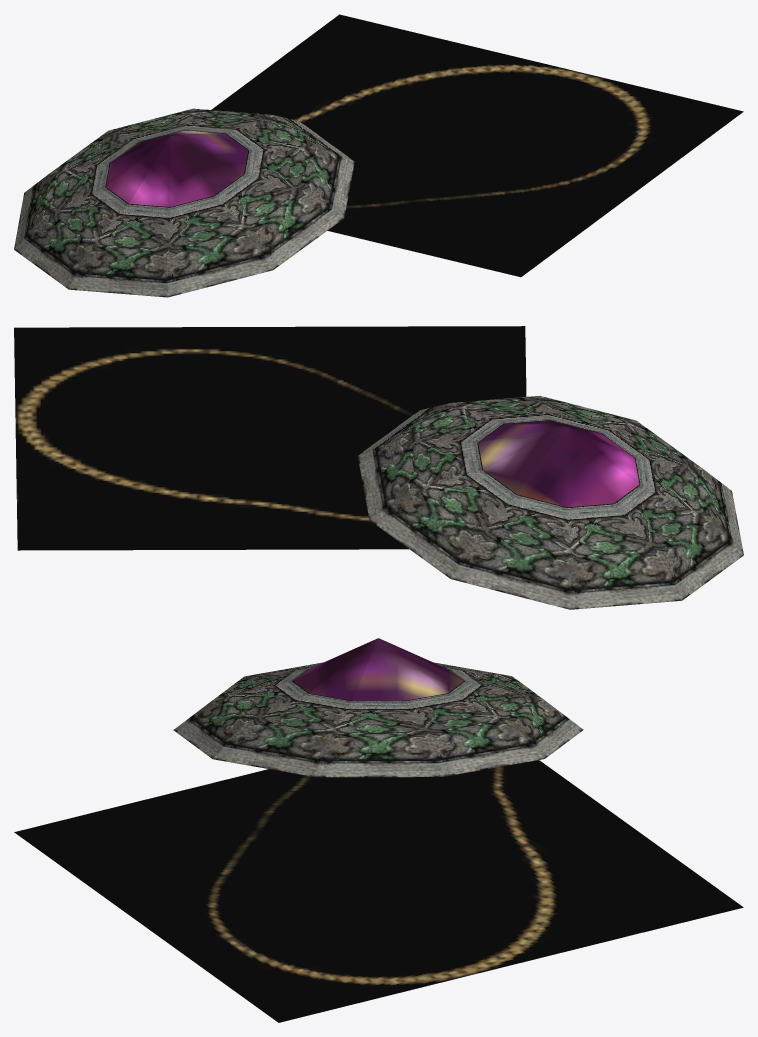
File: ITAM.glb
The picture shows the model from 3 angles, top to bottom: view 1: azimuth 30°, elevation 25°; view 2: azimuth 150°, elevation 25°; view 3: azimuth 270°, elevation 25°; orthographic projection. The views are drawn at different scales.
Parts seen in each view (by area): view 1: zengin; view 2: zengin; view 3: zengin.
Boxes of the visible parts, bbox=[...] form: zengin: bbox=[14, 14, 743, 297]; zengin: bbox=[14, 326, 743, 609]; zengin: bbox=[14, 638, 743, 1022].
Size of the model in its own units: 0.1834 by 0.027 by 0.1515.
Materials: 2 (2 with a texture image).
